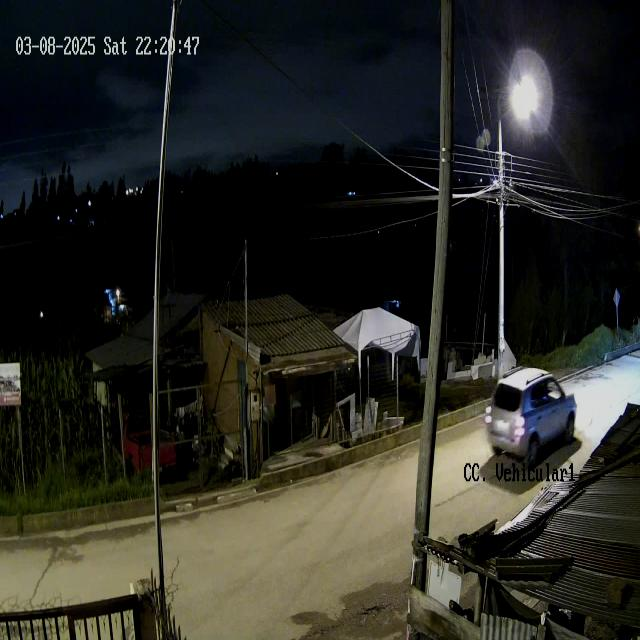SUV: (484, 365, 577, 471)
